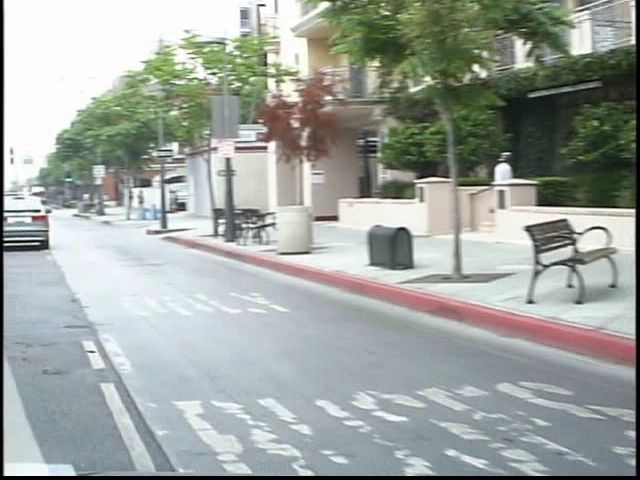person: (468, 146, 509, 236), (120, 183, 134, 217)
